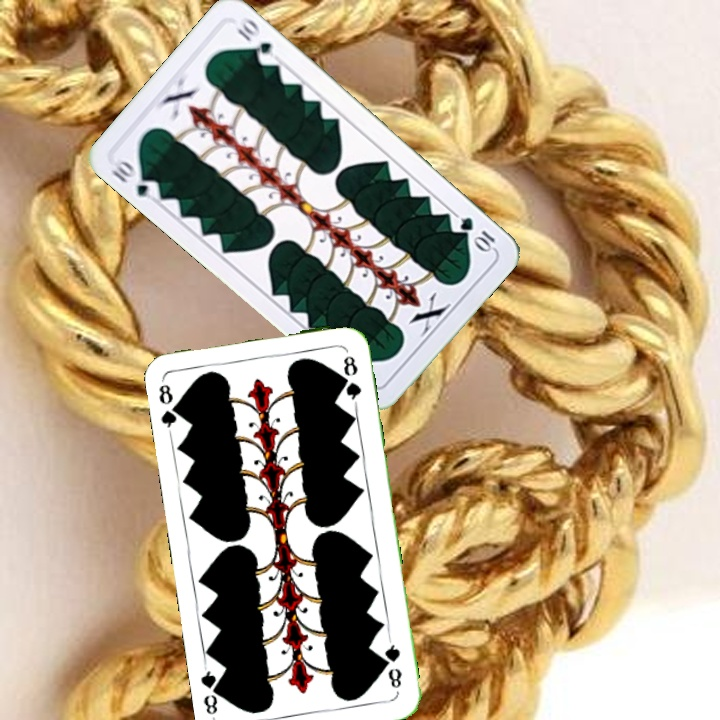G10: (107, 154, 163, 201), (456, 212, 498, 254)
G8: (155, 380, 185, 434), (381, 635, 405, 691)
